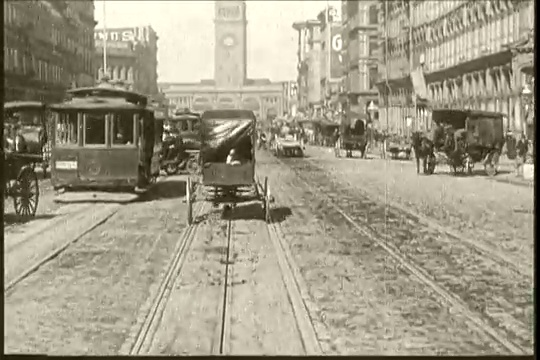carriage: (175, 104, 283, 239), (400, 103, 508, 182), (328, 103, 373, 162), (270, 118, 307, 161), (378, 131, 415, 163)
trolley: (38, 83, 164, 210)
